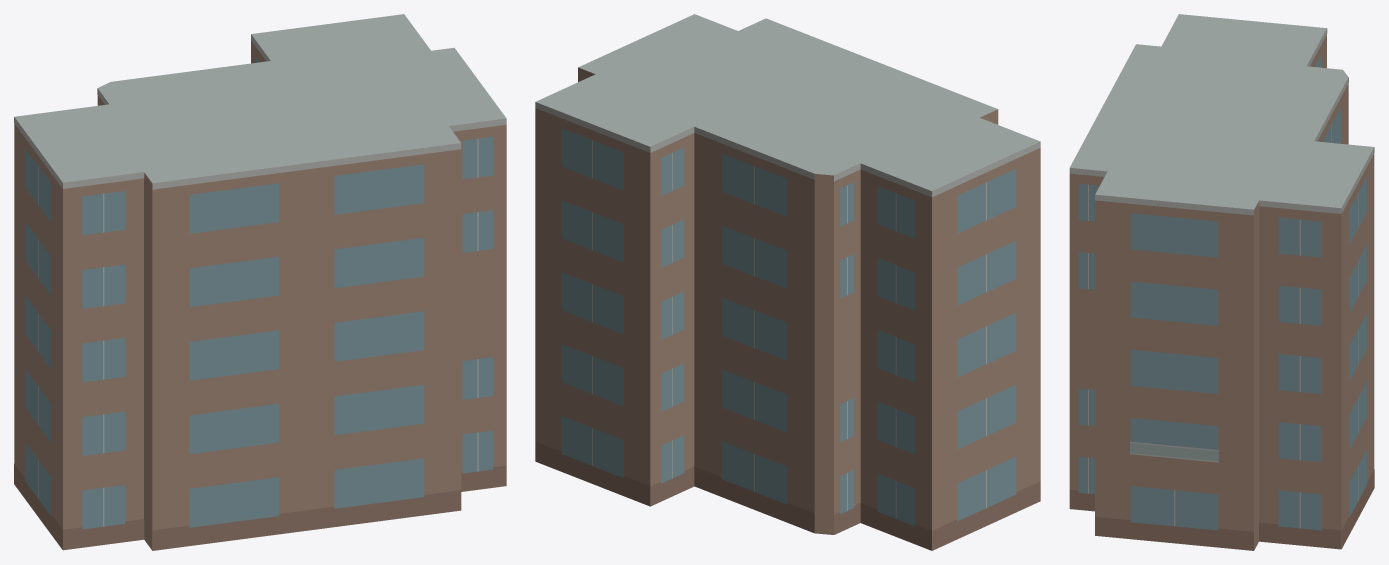
The model's file is survey-upis-32723446.glb.
The picture shows the model from 3 angles, left to right: view 1: azimuth 30°, elevation 25°; view 2: azimuth 150°, elevation 25°; view 3: azimuth 270°, elevation 25°; orthographic projection. The views are drawn at different scales.
Parts seen in each view (by area): view 1: survey-upis-32723446.tmp; view 2: survey-upis-32723446.tmp; view 3: survey-upis-32723446.tmp.
Part boxes in pixels (x1,y1,x2,y2): survey-upis-32723446.tmp: (14,14,506,550); survey-upis-32723446.tmp: (535,14,1040,550); survey-upis-32723446.tmp: (1069,14,1374,550).
Bounding box in the file's own units: 17.73 × 14.4 × 11.68.
